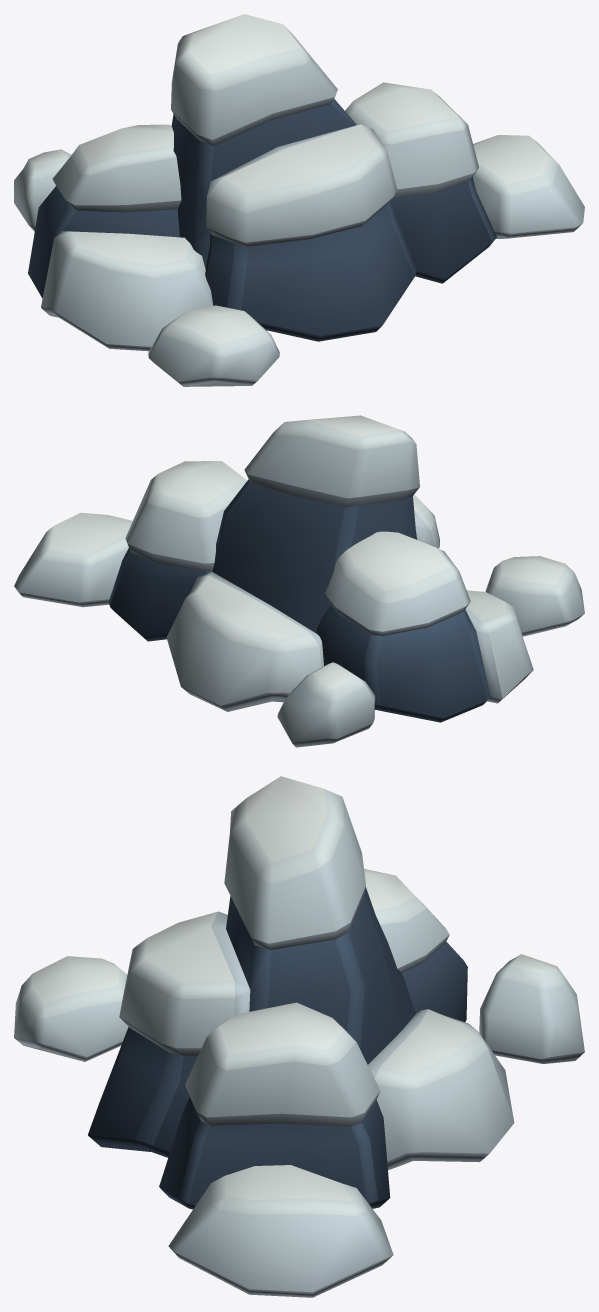
The model's file is rock_arrangement_small_snow.fbx.
The picture shows the model from 3 angles, top to bottom: view 1: azimuth 30°, elevation 25°; view 2: azimuth 150°, elevation 25°; view 3: azimuth 270°, elevation 25°; orthographic projection. The views are drawn at different scales.
Visible parts, largest first — view 1: rock_arrangement_small_snow; view 2: rock_arrangement_small_snow; view 3: rock_arrangement_small_snow.
Part boxes in pixels (x1=…): rock_arrangement_small_snow: x1=14, y1=14, x2=584, y2=386; rock_arrangement_small_snow: x1=14, y1=415, x2=584, y2=747; rock_arrangement_small_snow: x1=14, y1=776, x2=584, y2=1297.
Size of the model in its own units: 339 by 170 by 265.
Materials: 1 (1 with a texture image).
